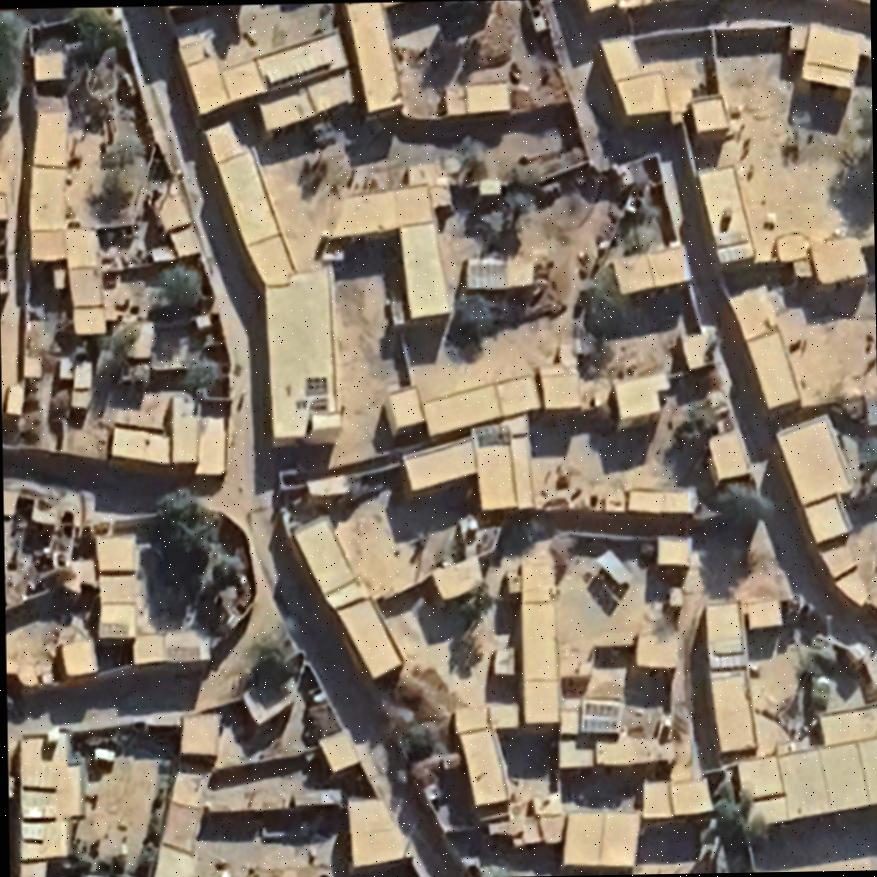Solarpanel: (589, 543, 636, 591), (574, 701, 621, 736), (461, 258, 508, 290), (713, 227, 750, 263), (470, 423, 510, 443), (704, 650, 748, 667), (300, 374, 326, 397)
